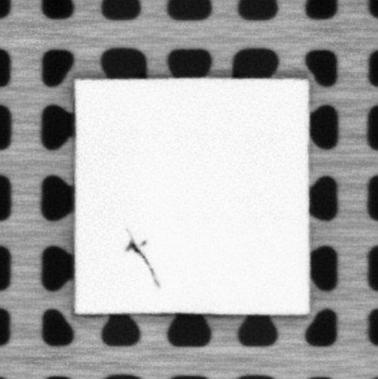DIE_INK: (122, 228, 163, 289)
